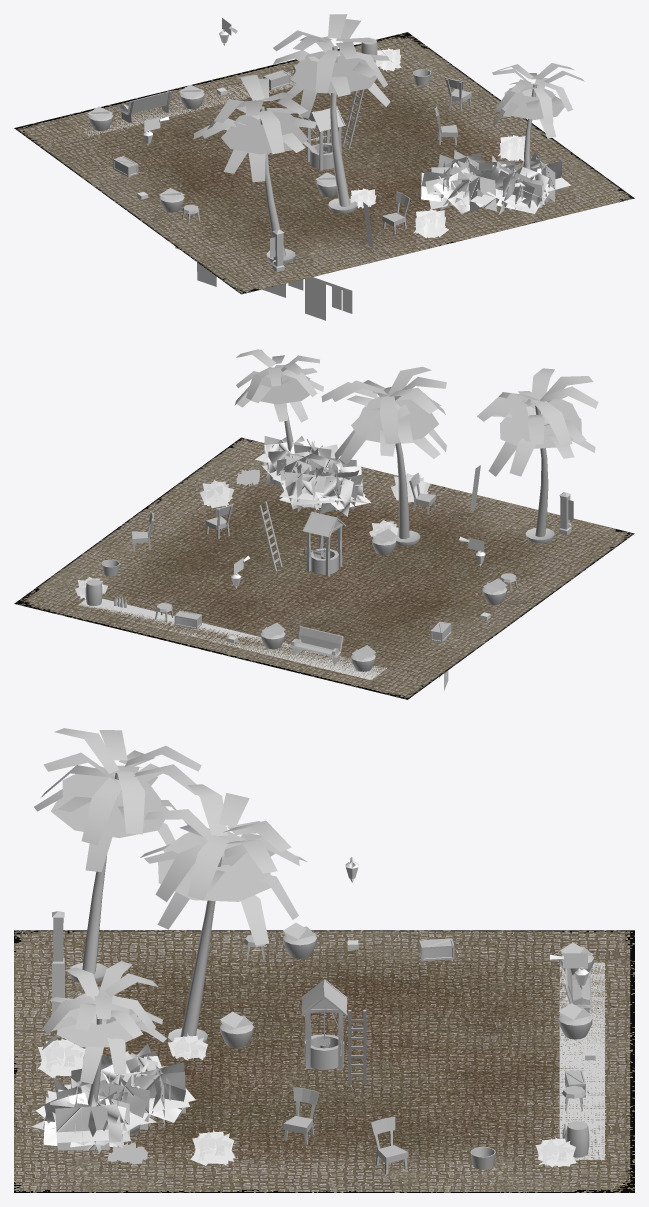
File: propsonly_6.gltf
3 views of the same model, one above another, from view 1: azimuth 30°, elevation 25°; view 2: azimuth 150°, elevation 25°; view 3: azimuth 270°, elevation 25° (orthographic). The views are drawn at different scales.
Visible parts, largest first — view 1: ground.006, prop_tree2.001, prop_tree3.001, prop_bush_jungle_04_small, prop_tree1.002, prop_bush_jungle_04_small.001, file_clothline_colony_no_terrain_hight, prop_well.001, FeedbackBlocker.012, prop_building_bush_05.004, prop_bench1.001, prop_building_bush_05.007 (+7 smaller); view 2: ground.006, prop_tree3.001, prop_tree2.001, prop_bush_jungle_04_small, prop_tree1.002, FeedbackBlocker.012, prop_bush_jungle_04_small.001, prop_well.001, prop_bench1.001, prop_building_bush_05.007, prop_waterpump.001, prop_flowerpot.005 (+3 smaller); view 3: ground.006, prop_tree2.001, prop_tree3.001, prop_tree1.002, prop_bush_jungle_04_small.001, FeedbackBlocker.012, prop_bush_jungle_04_small, prop_well.001, prop_building_bush_05.004, prop_building_bush_05.007, prop_chair1.004, prop_chair1.006 (+11 smaller).
Boxes of the visible parts, <box> form: ground.006: <box>14,32,634,294</box>; prop_tree2.001: <box>273,14,392,206</box>; prop_tree3.001: <box>193,75,318,257</box>; prop_bush_jungle_04_small: <box>419,150,502,213</box>; prop_tree1.002: <box>492,63,584,168</box>; prop_bush_jungle_04_small.001: <box>478,152,571,214</box>; file_clothline_colony_no_terrain_hight: <box>175,246,352,320</box>; prop_well.001: <box>304,106,345,170</box>; FeedbackBlocker.012: <box>74,71,295,136</box>; prop_building_bush_05.004: <box>413,209,448,238</box>; prop_bench1.001: <box>118,91,172,122</box>; prop_building_bush_05.007: <box>498,135,525,161</box>; ground.006: <box>14,437,634,699</box>; prop_tree3.001: <box>477,368,598,537</box>; prop_tree2.001: <box>321,366,446,539</box>; prop_bush_jungle_04_small: <box>279,453,370,516</box>; prop_tree1.002: <box>234,349,323,451</box>; FeedbackBlocker.012: <box>78,598,386,679</box>; prop_bush_jungle_04_small.001: <box>255,436,339,491</box>; prop_well.001: <box>298,511,345,576</box>; prop_bench1.001: <box>289,626,343,664</box>; prop_building_bush_05.007: <box>200,480,234,508</box>; prop_waterpump.001: <box>559,492,573,534</box>; prop_flowerpot.005: <box>351,645,375,671</box>; ground.006: <box>14,930,634,1192</box>; prop_tree2.001: <box>140,784,307,1036</box>; prop_tree3.001: <box>34,728,201,973</box>; prop_tree1.002: <box>42,961,166,1105</box>; prop_bush_jungle_04_small.001: <box>31,1072,156,1158</box>; FeedbackBlocker.012: <box>559,962,604,1159</box>; prop_bush_jungle_04_small: <box>64,1043,195,1125</box>; prop_well.001: <box>301,979,347,1069</box>; prop_building_bush_05.004: <box>37,1037,85,1077</box>; prop_building_bush_05.007: <box>190,1129,235,1165</box>; prop_chair1.004: <box>370,1116,408,1174</box>; prop_chair1.006: <box>283,1087,319,1144</box>.
Size of what is drawn, in the model's own units: 3.3 by 2.08 by 3.3.
